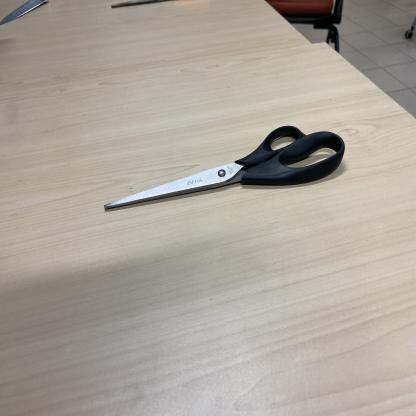Knife: (0, 0, 48, 26)
scissors: (103, 125, 346, 213), (110, 0, 187, 11)
